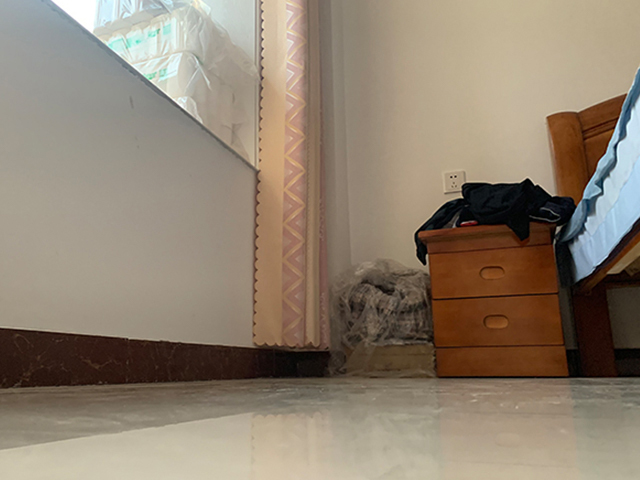bed: (546, 67, 640, 378)
cabinet: (418, 223, 569, 379)
curtain: (250, 1, 331, 352)
